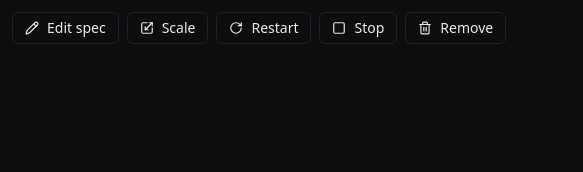
ServiceActions remove › arms on the first click and deletes nothing
The width and height of the screenshot is (583, 172).
Click the button "Remove": click(456, 28) [405,12,506,44]
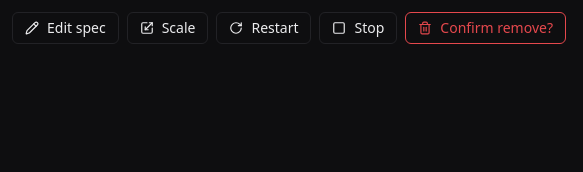
Check: the button "Confirm remove?" is shown, box [405,12,566,44]
